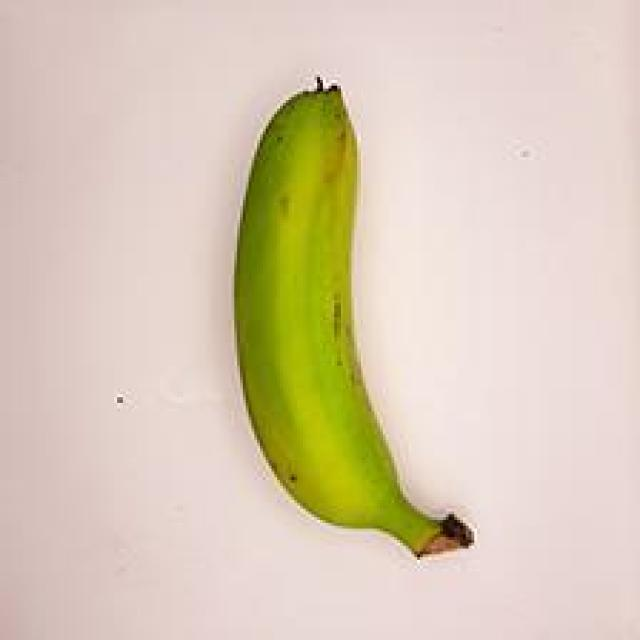Unripe: (204, 61, 511, 583)
